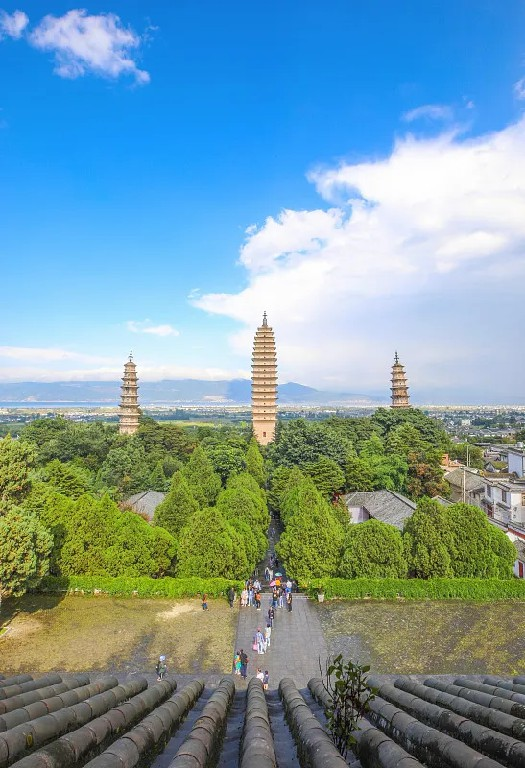ThreePagoda: (250, 310, 279, 447)
